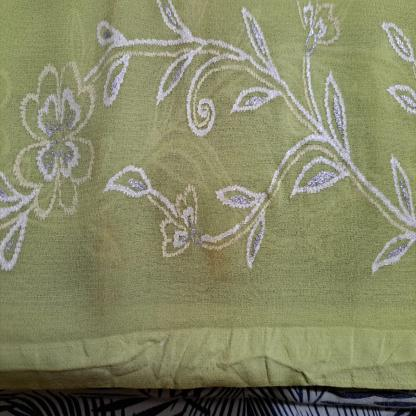spot: (174, 174, 252, 308), (149, 132, 201, 253), (92, 205, 128, 317), (195, 212, 234, 283), (255, 168, 279, 214), (99, 27, 121, 51)
